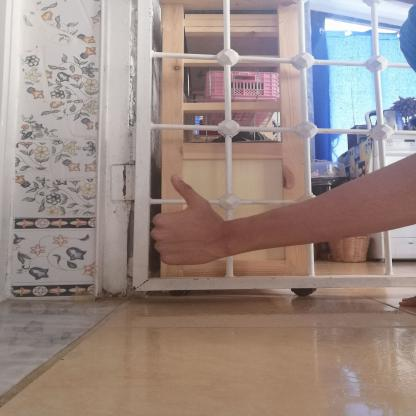ALIF: (134, 168, 236, 278)
